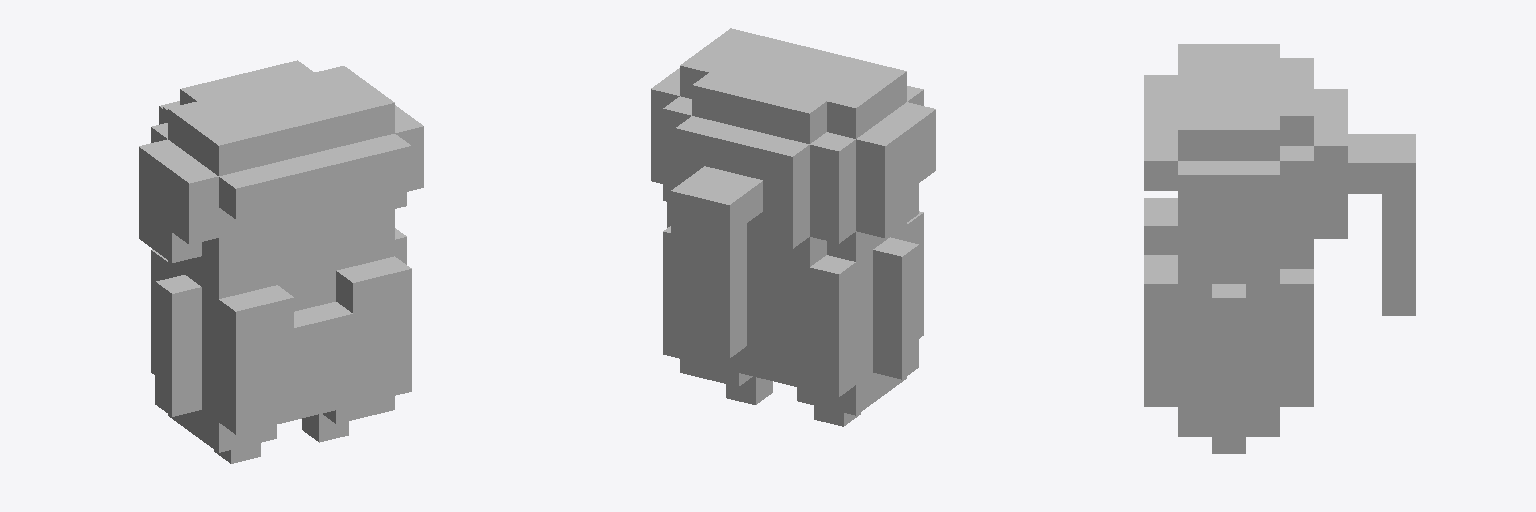
The model's file is chr_ponytail2.obj.
3 renders of one model, left to right at view 1: azimuth 30°, elevation 25°; view 2: azimuth 150°, elevation 25°; view 3: azimuth 270°, elevation 25°, orthographic.
Visible parts, largest first — view 1: object 1; view 2: object 1; view 3: object 1.
Part boxes in pixels (x1,y1,x2,y2): object 1: (139,60,423,463); object 1: (651,28,935,426); object 1: (1144,44,1415,453).
Size of the model in its own units: 0.8 by 1.1 by 0.8.